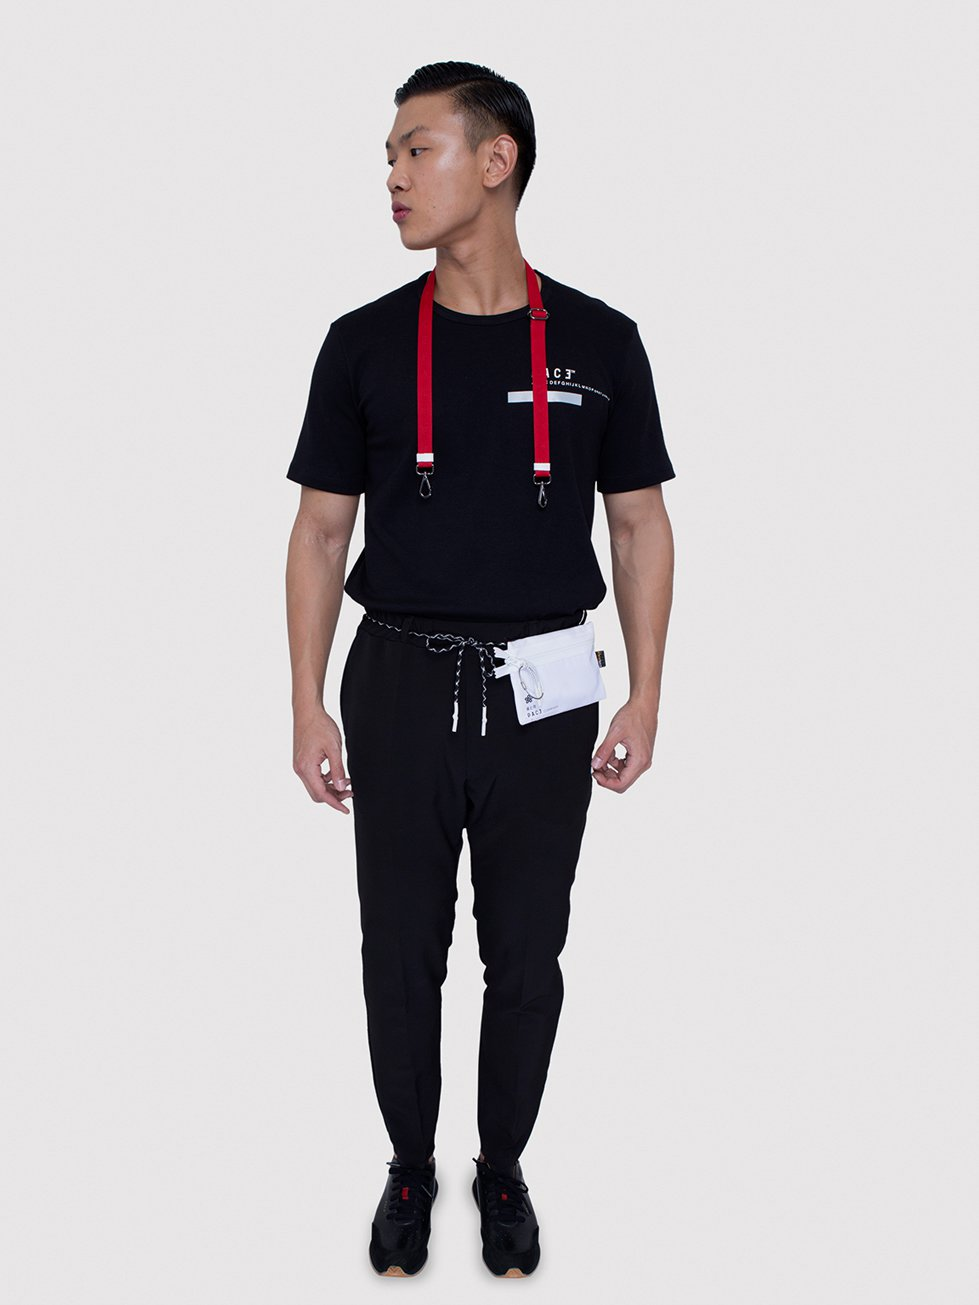feet: (338, 1083, 557, 1291)
